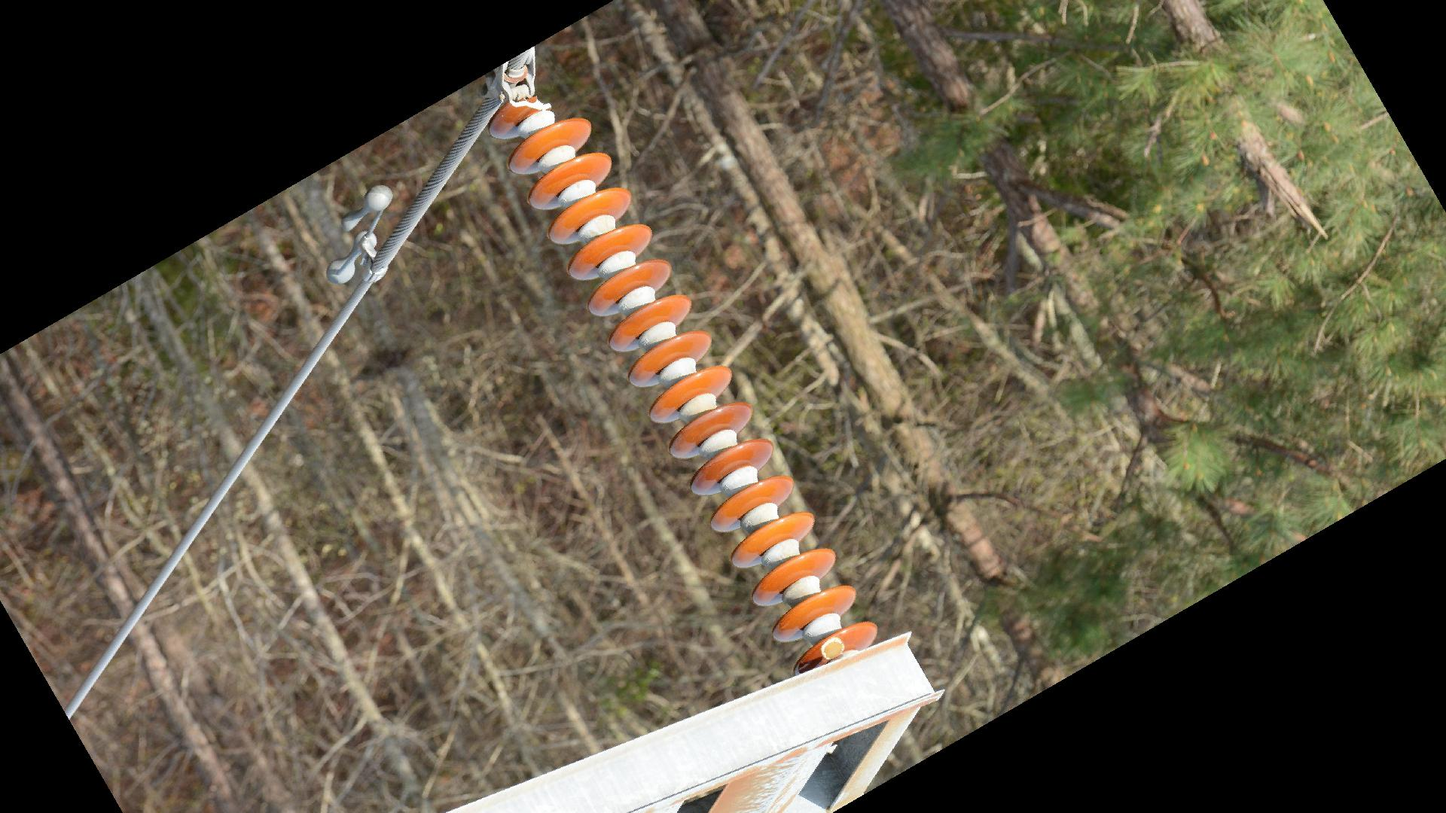insulator: (487, 90, 883, 674)
insulator_breakage: (507, 93, 554, 112)
insulator_flashover: (819, 635, 847, 662)
